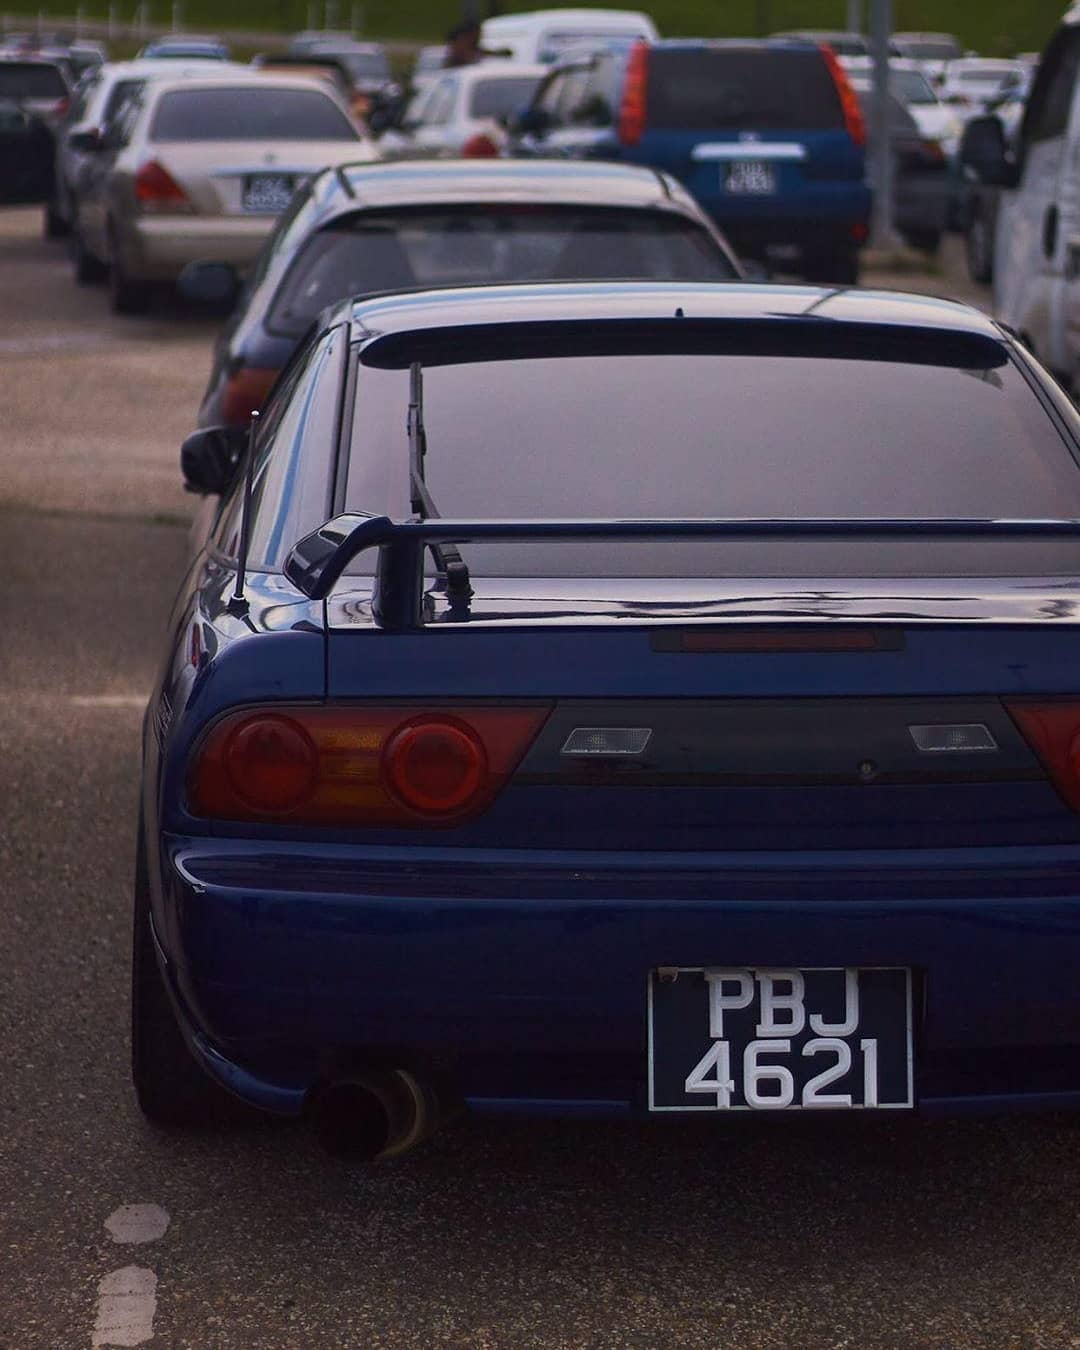License-Plate: (651, 966, 909, 1106)
